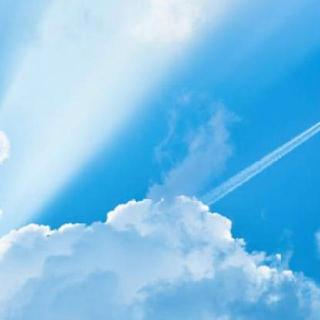Contrails: (166, 73, 320, 241)
